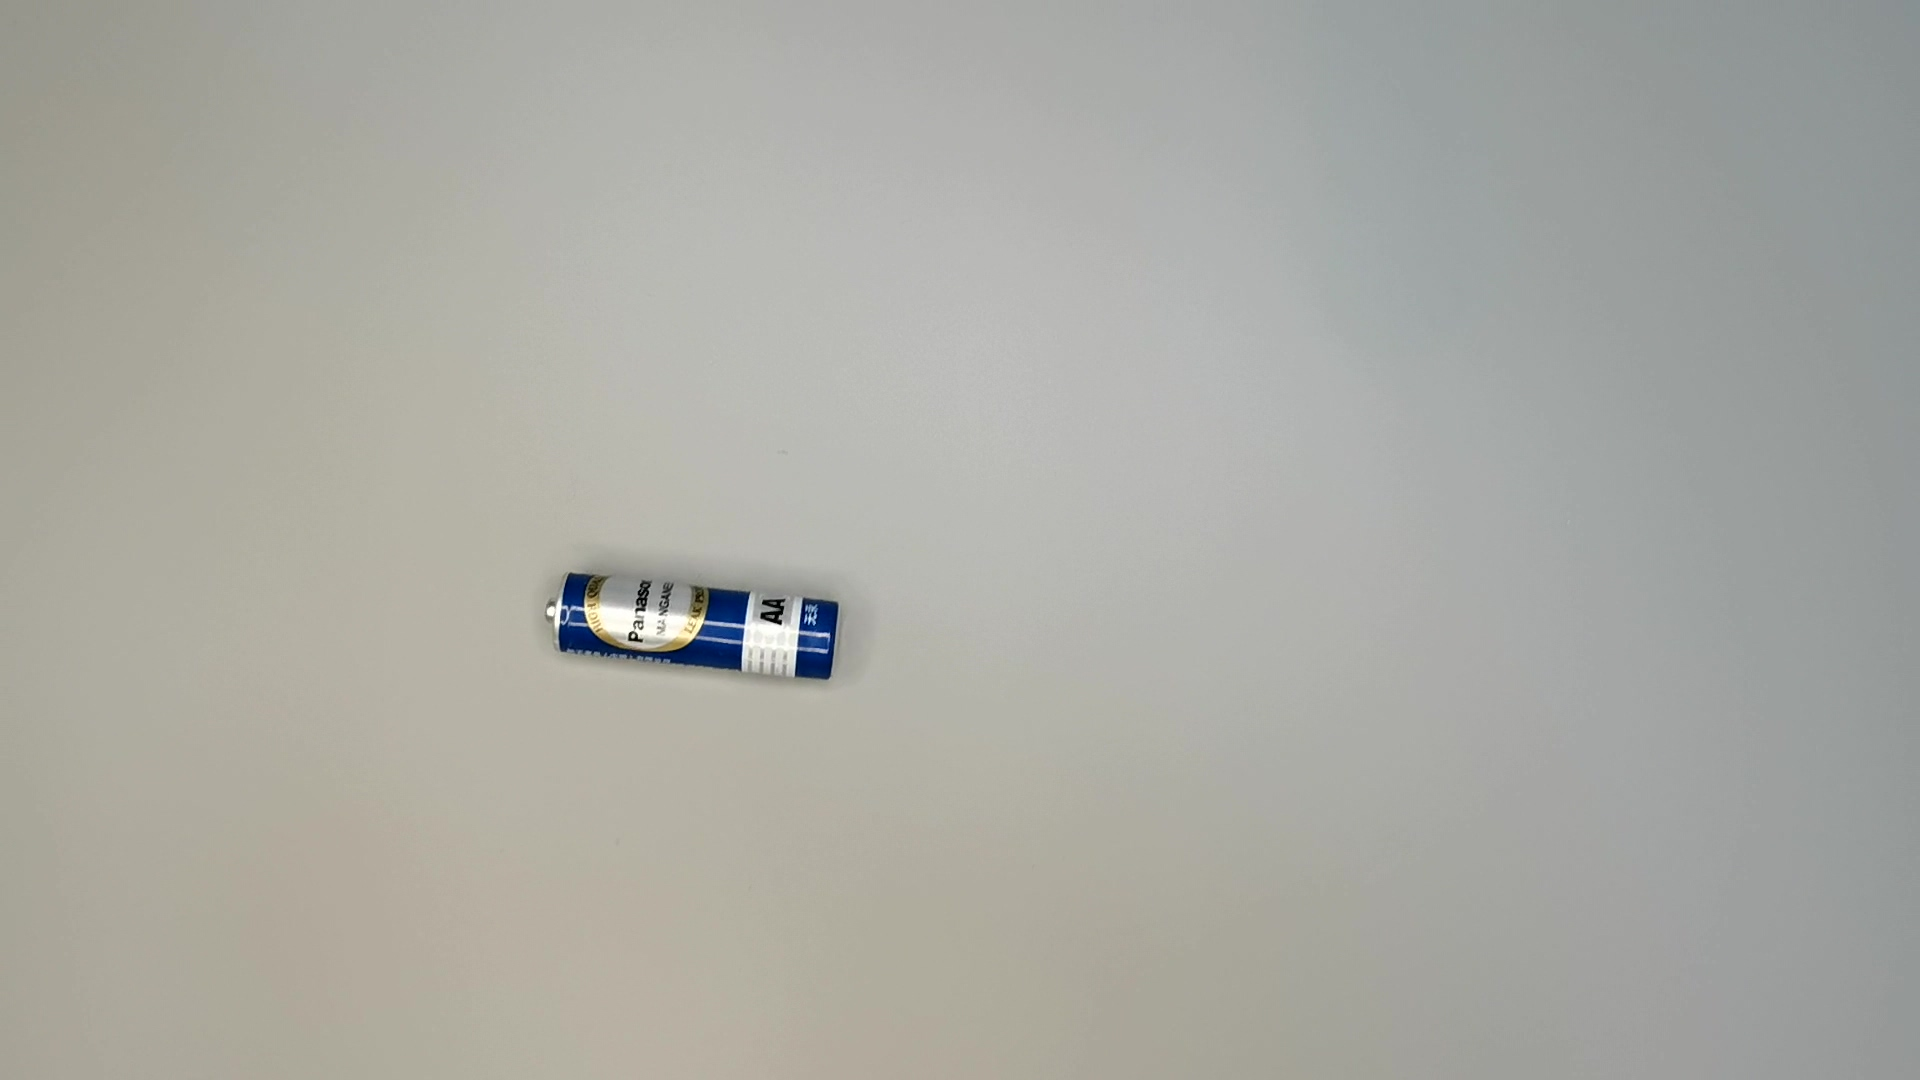battery: (538, 560, 855, 690)
